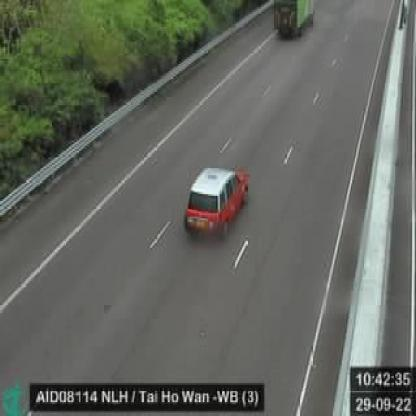Car: (180, 163, 252, 243)
Truck: (261, 0, 314, 43)
